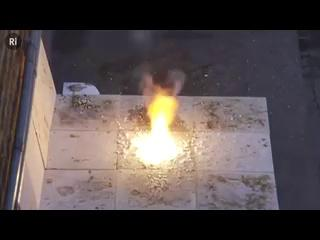Fire: (132, 98, 176, 168)
